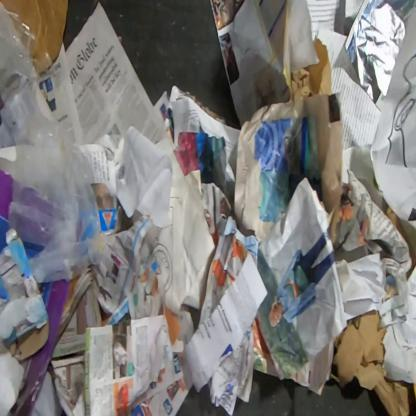cardboard: (5, 280, 72, 416), (330, 309, 415, 415), (0, 228, 50, 362), (0, 0, 70, 65), (383, 202, 415, 286), (0, 155, 16, 253), (23, 242, 44, 257)
rigid_plastic: (0, 0, 57, 87)
soft_plastic: (8, 97, 102, 284)
